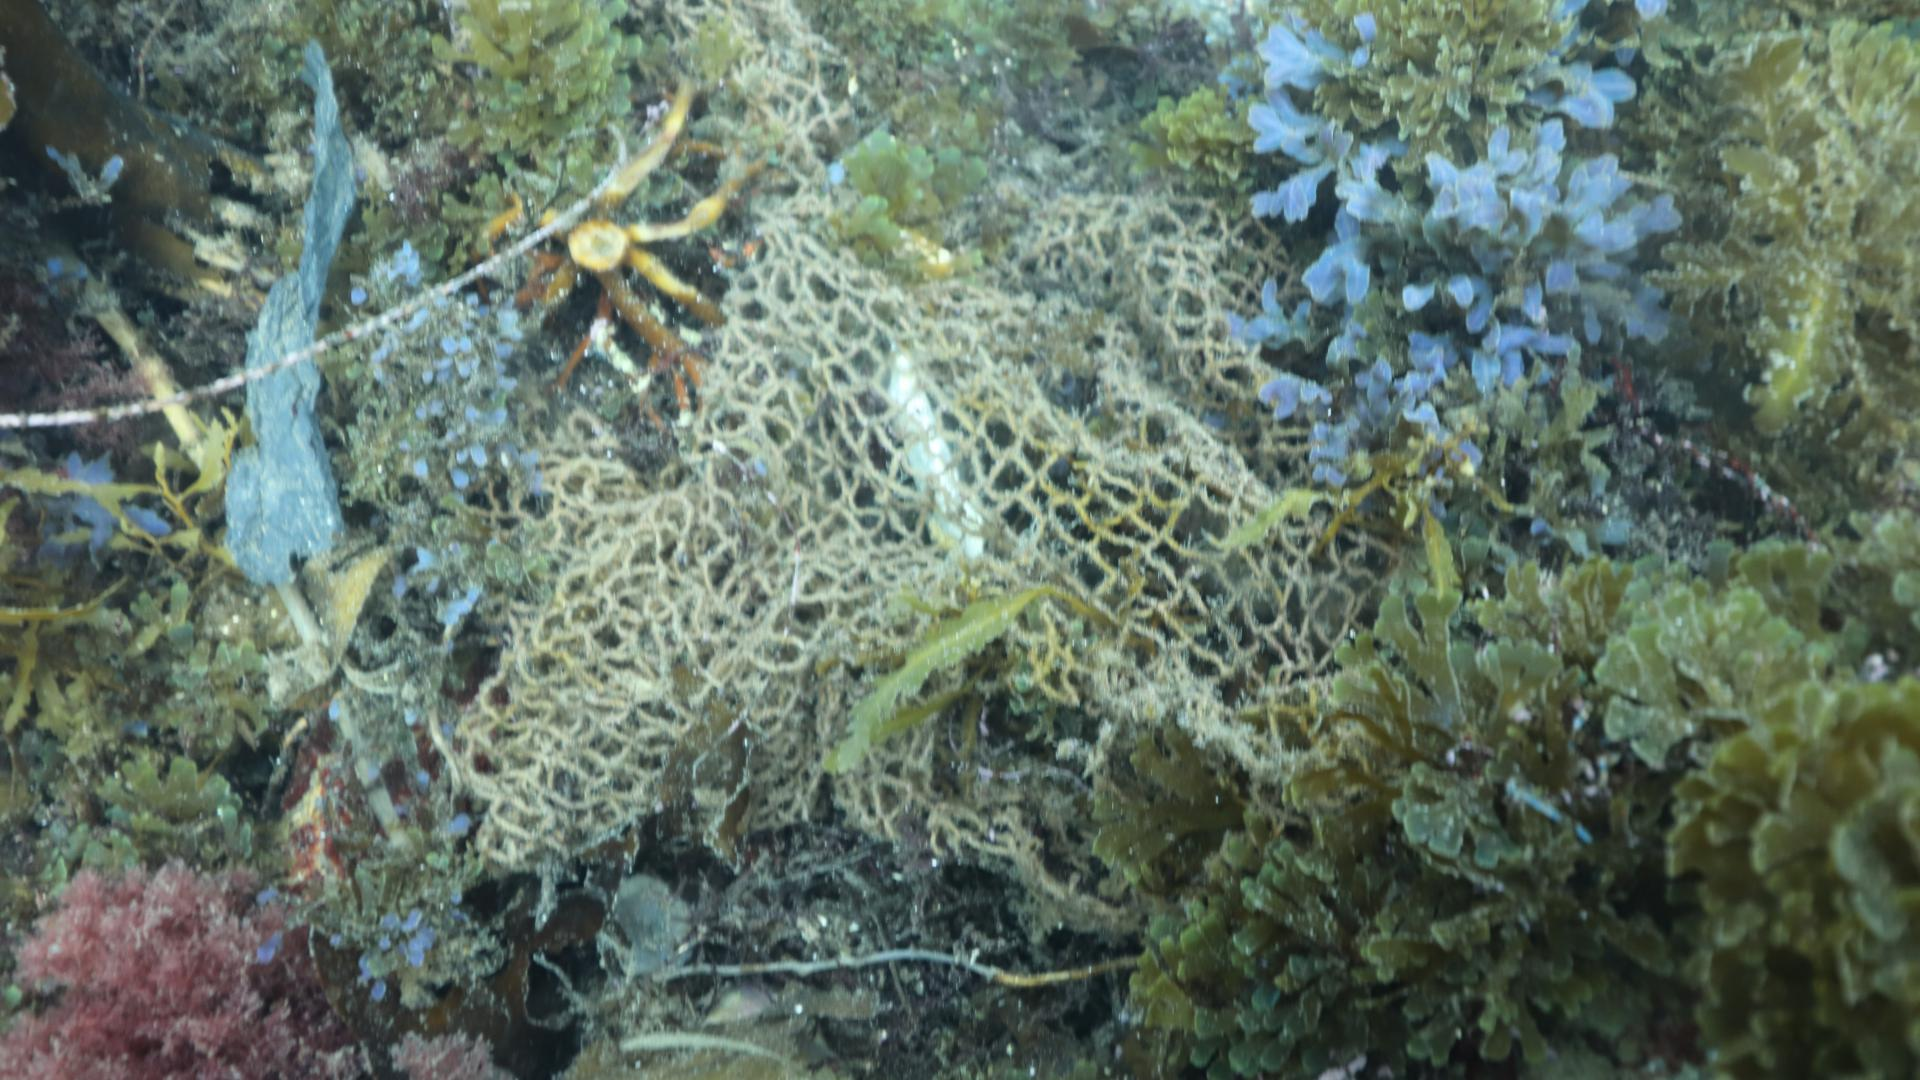fish net: (448, 66, 1402, 864)
